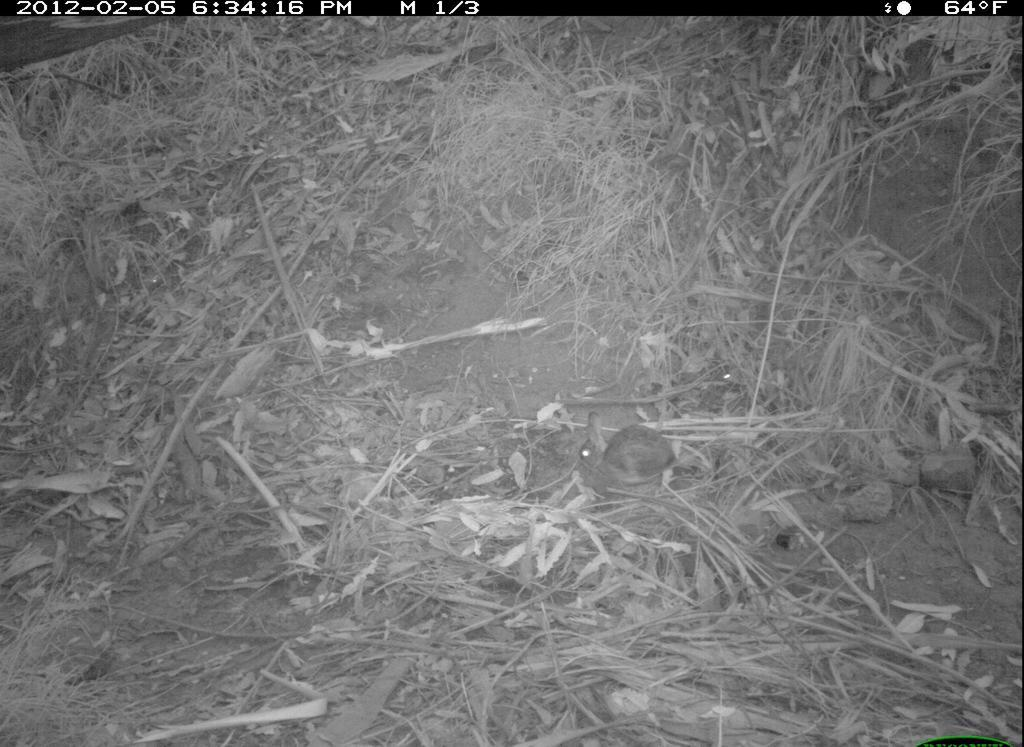rabbit: (571, 396, 707, 519)
